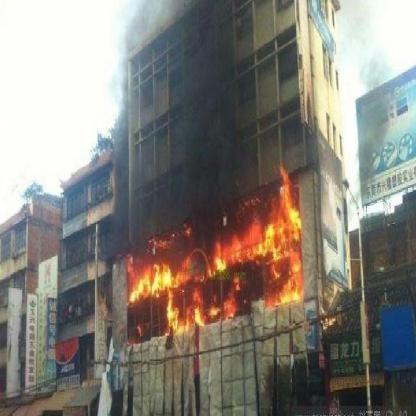fire: (218, 208, 310, 315), (122, 240, 213, 332), (253, 164, 312, 206)
smoke: (101, 2, 248, 224)
